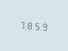eight: (25, 19, 31, 30)
five: (32, 19, 38, 31)
nine: (39, 20, 45, 31)
seven: (18, 18, 24, 30)
